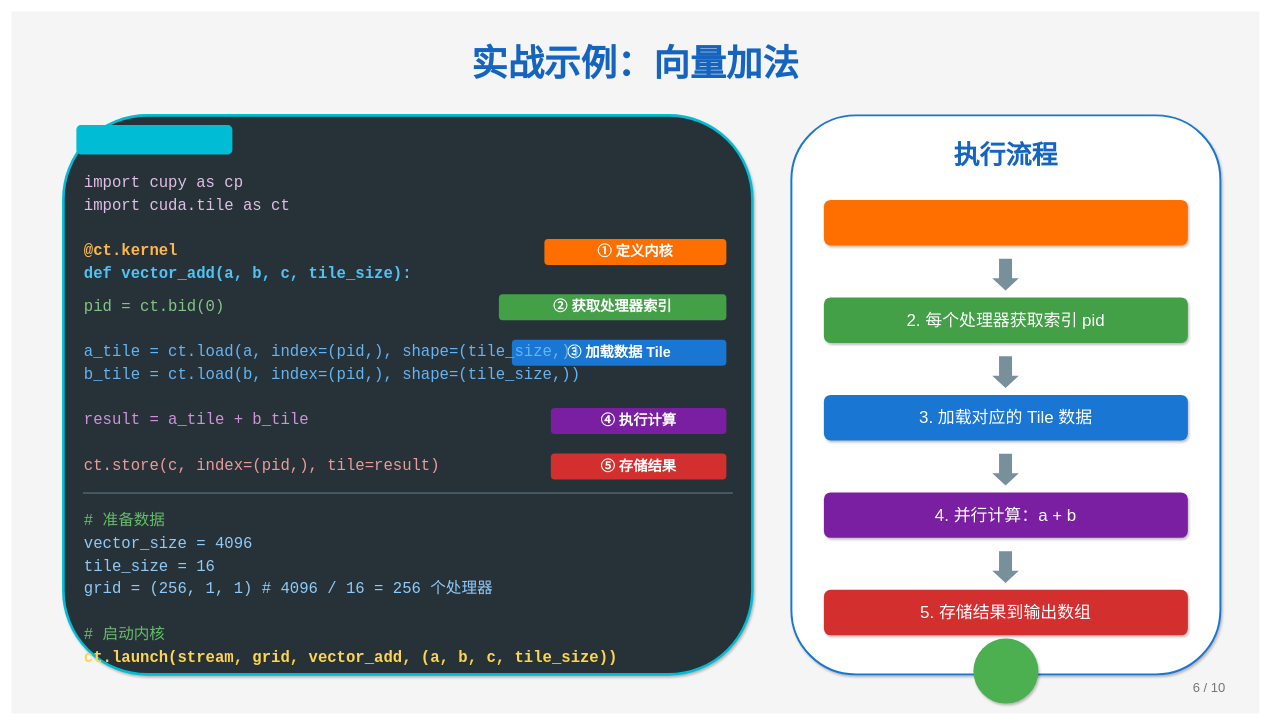
Some shapes in this 1270 by 724 pixel diagram are drawn without their labels. Here are the shapes that lost their labels. From the top down, the centre of each, then its label:
At (154,139): "vector_add.py".
At (1006,223): "1. 启动 256 个处理器".
At (1006,672): "✓ 完成".
